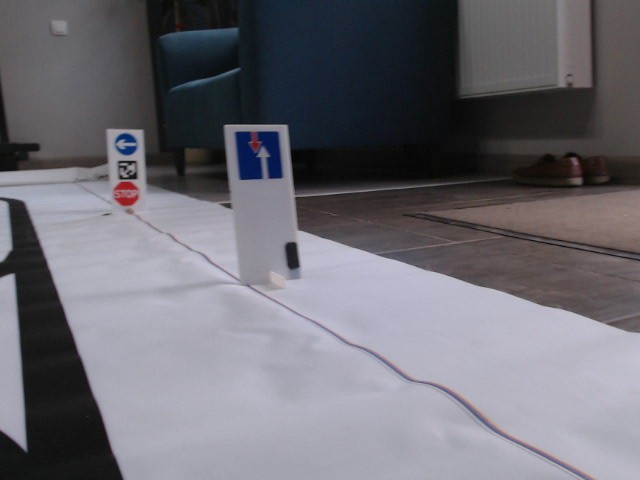Stop: (111, 180, 140, 206)
priority_movement: (233, 131, 284, 181)
